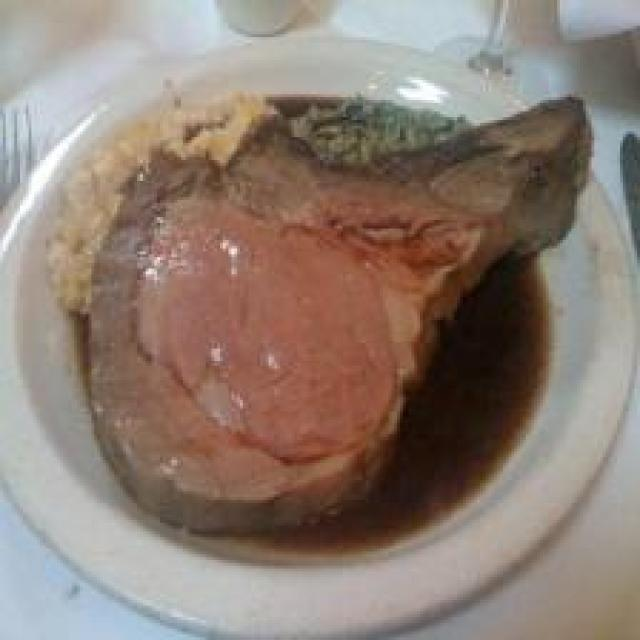Rib: (101, 104, 584, 524)
